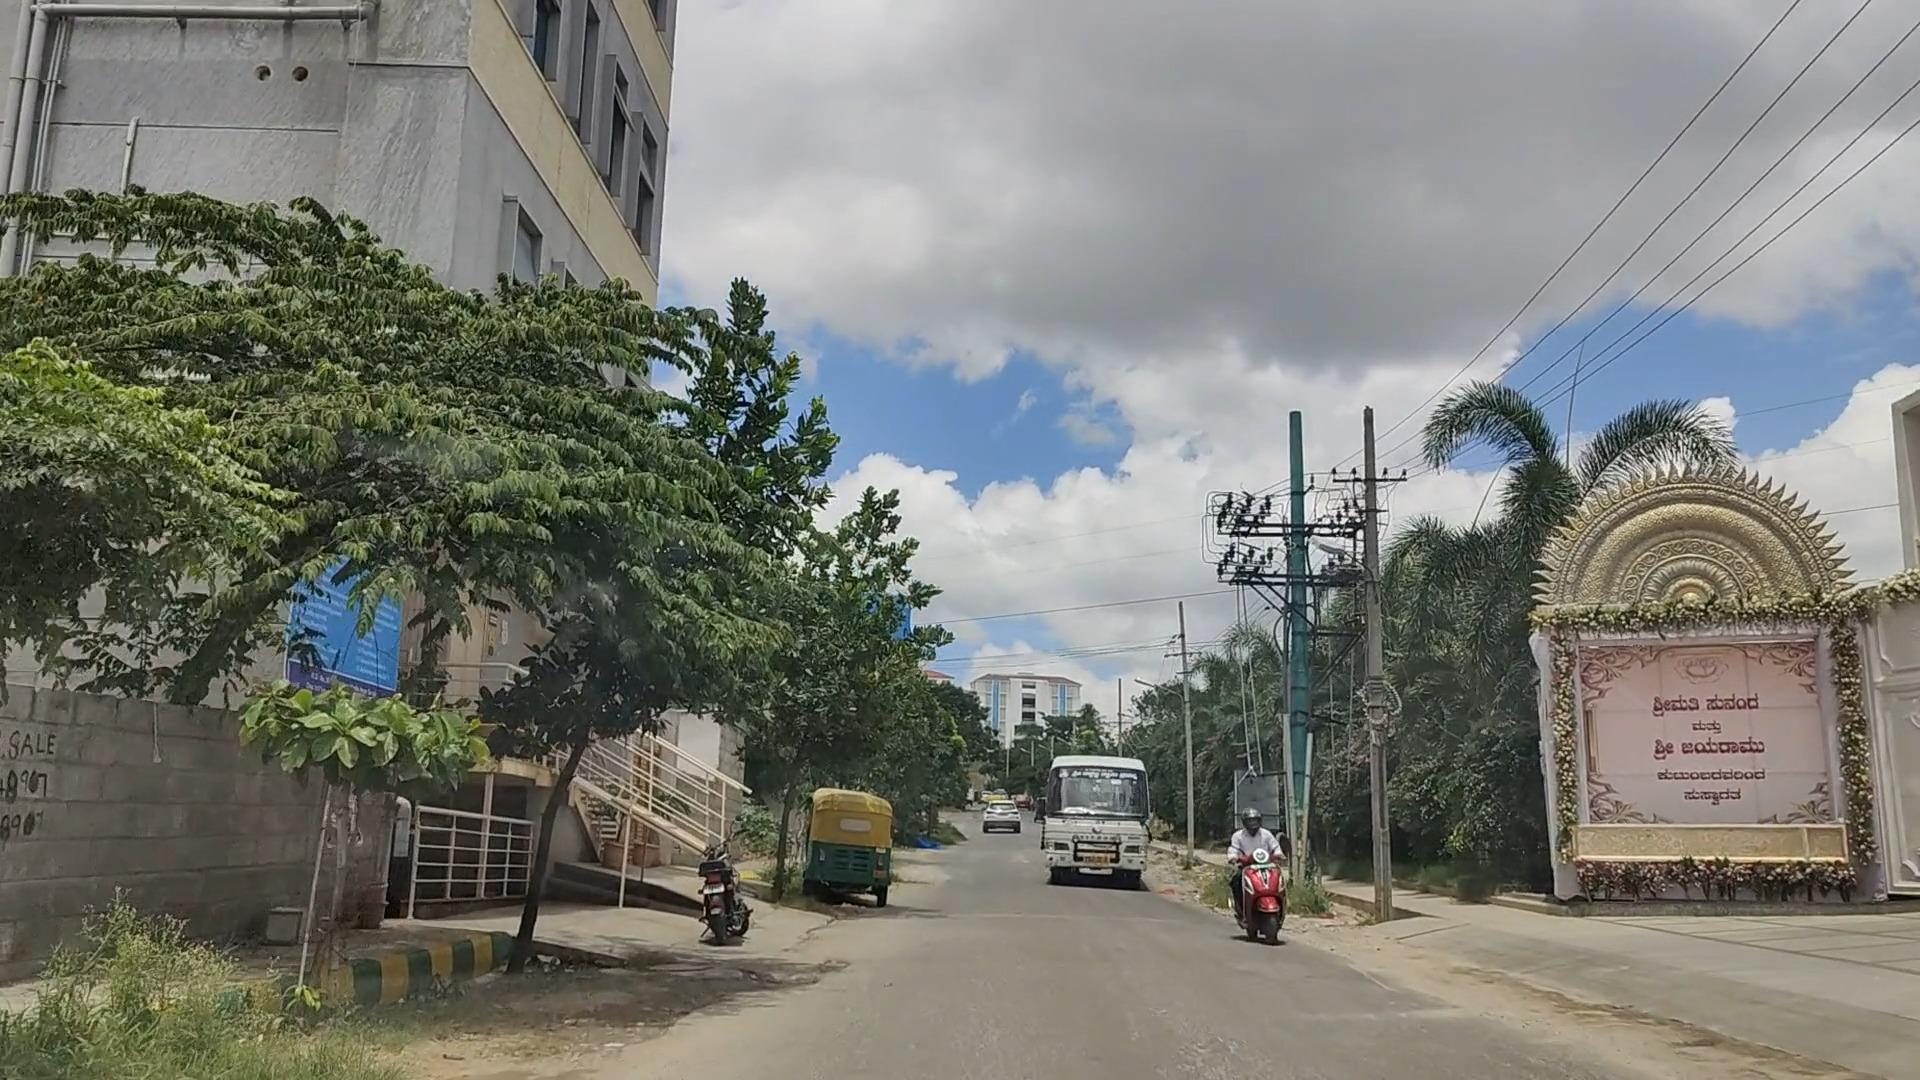HMV: (1031, 736, 1171, 918)
RoadDamages: (642, 948, 790, 1009)
